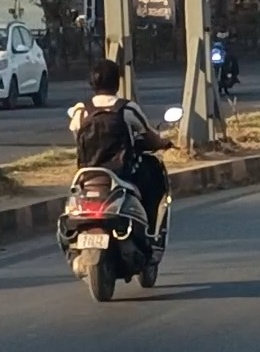BikeWithRider: (50, 54, 187, 306)
NoHelmet: (81, 55, 126, 99)
